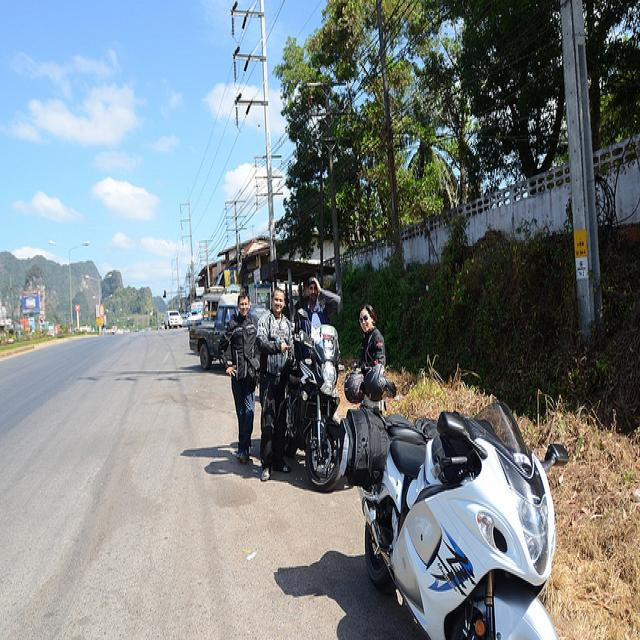motor: (341, 406, 571, 639), (290, 324, 346, 488)
